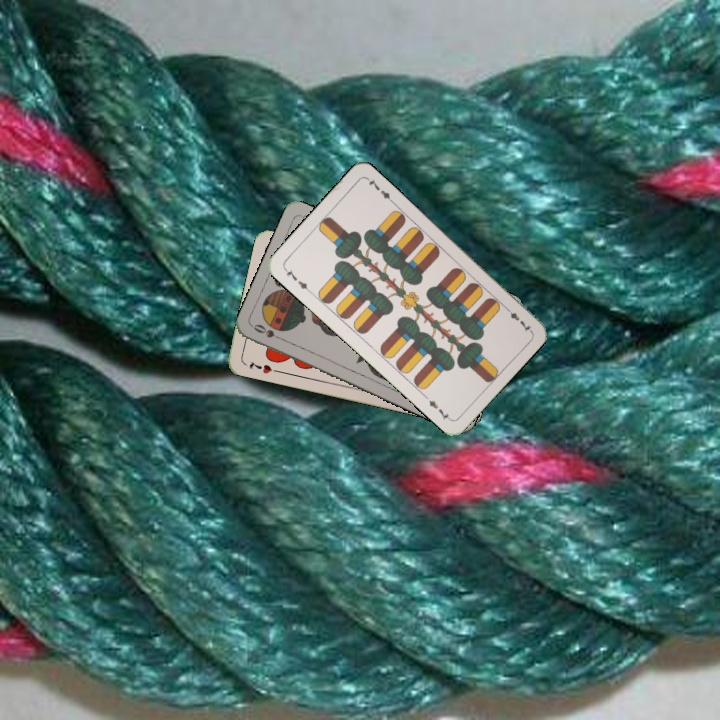E7: (500, 302, 533, 334), (280, 264, 313, 295)
H7: (245, 357, 282, 376)
SO: (249, 320, 288, 344)
